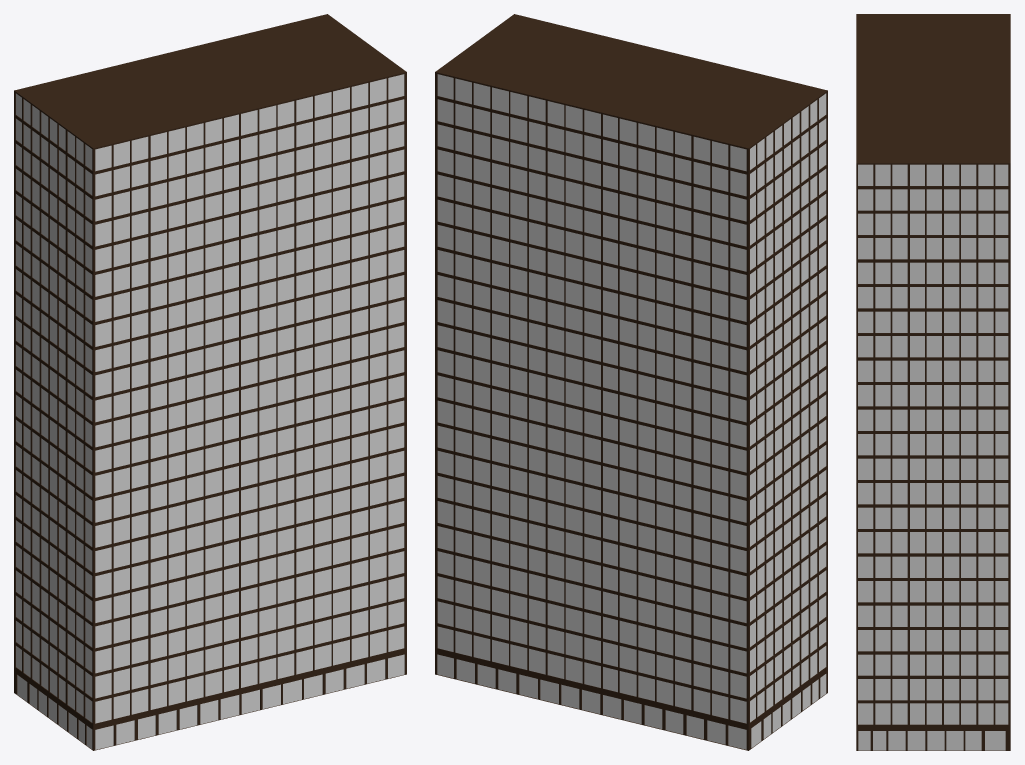
Rendered from building3.fbx.
The picture shows the model from 3 angles, left to right: view 1: azimuth 30°, elevation 25°; view 2: azimuth 150°, elevation 25°; view 3: azimuth 270°, elevation 25°; orthographic projection. The views are drawn at different scales.
Visible parts, largest first — view 1: Cube.053; view 2: Cube.053; view 3: Cube.053.
Boxes of the visible parts, <box> form: Cube.053: <box>14,14,406,750</box>; Cube.053: <box>435,14,827,750</box>; Cube.053: <box>856,14,1010,750</box>.
Bounding box in the file's own units: 8940 × 16421 × 3913.
